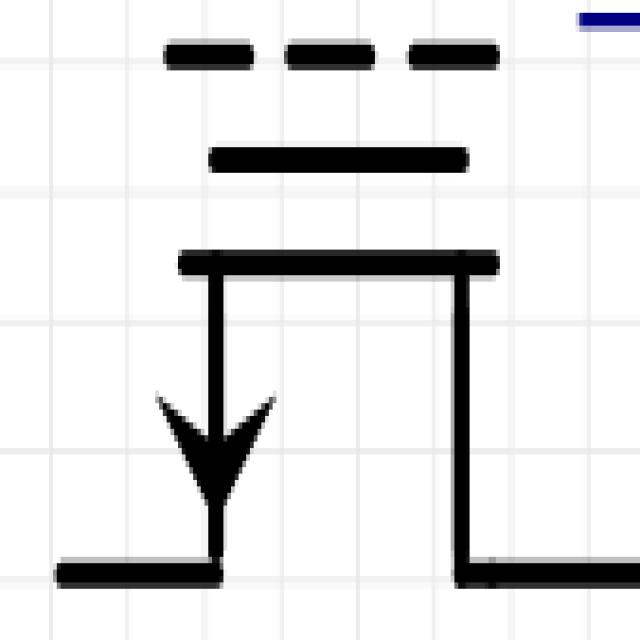nmos: (48, 18, 634, 640)
